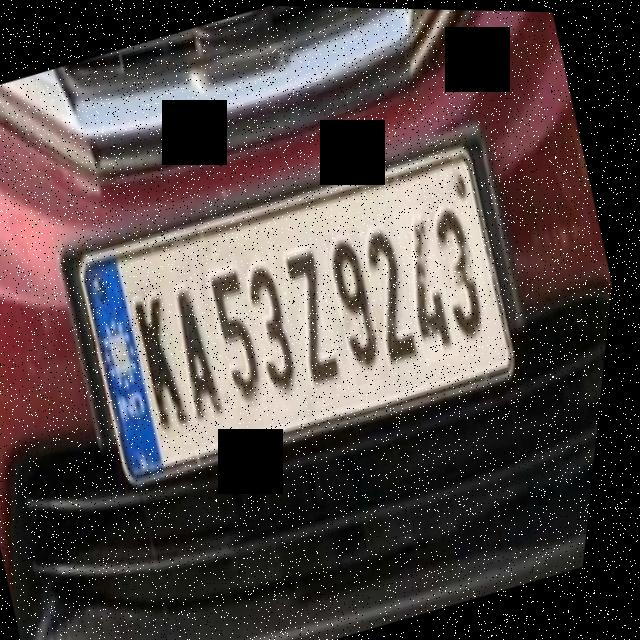3: (418, 185, 515, 352), (235, 247, 321, 398)
4: (384, 199, 479, 364)
5: (195, 254, 288, 409)
9: (317, 225, 410, 386)
A: (155, 259, 249, 430)
K: (122, 282, 214, 440)
Z: (271, 231, 365, 391)
